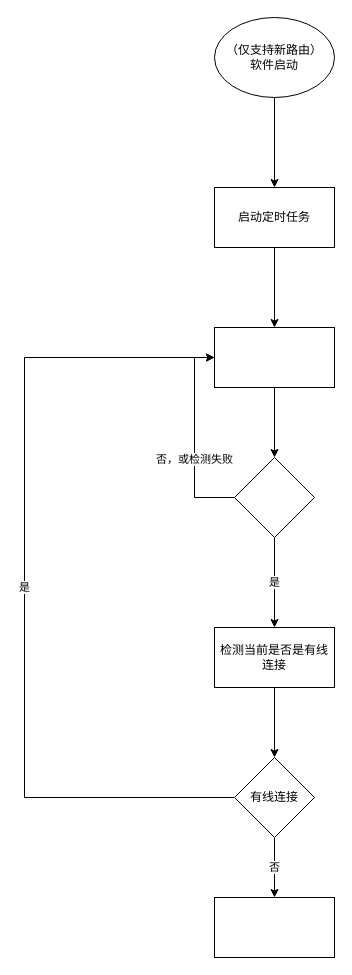
Image size: 352x975. Some labels were removed from this diagram. Here are the shapes that lost their labels. From the top down, the box of each, then its label:
(214, 326, 334, 388): 检测是否连接网线
(234, 456, 314, 538): 连接
